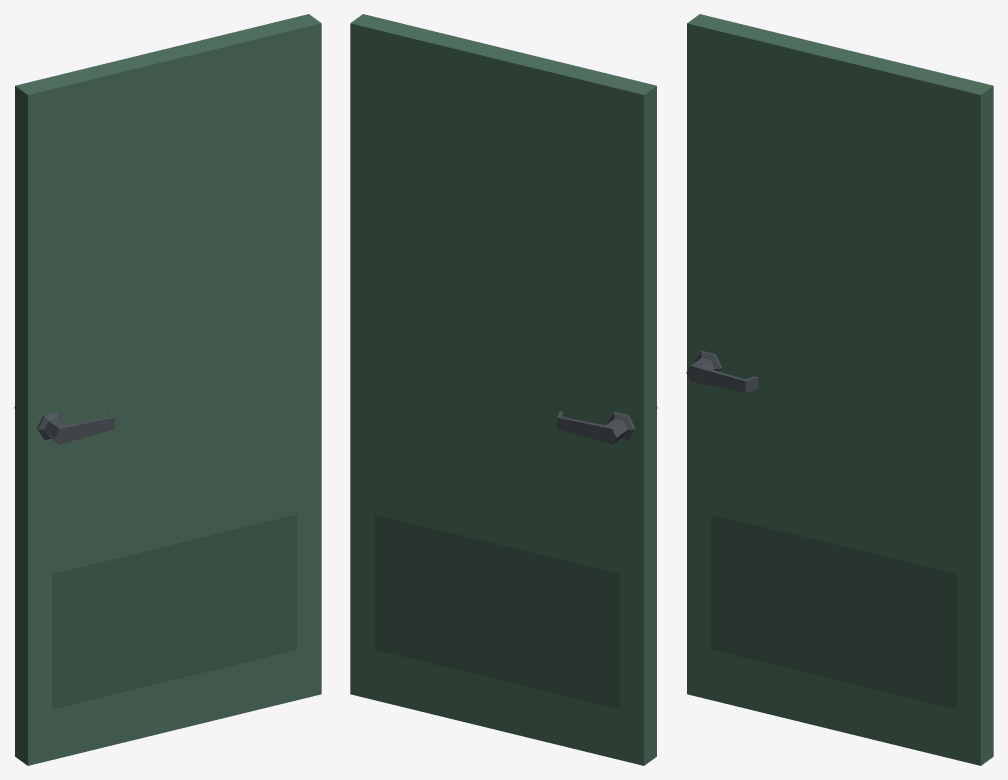
Rendered from SM_Bld_RepairShop_Large_01_Door_03.fbx.
The picture shows the model from 3 angles, left to right: view 1: azimuth 30°, elevation 25°; view 2: azimuth 150°, elevation 25°; view 3: azimuth 330°, elevation 25°; orthographic projection.
Visible parts, largest first — view 1: SM_Bld_RepairShop_Large_01_Door_03; view 2: SM_Bld_RepairShop_Large_01_Door_03; view 3: SM_Bld_RepairShop_Large_01_Door_03.
Part boxes in pixels (left/top/right/bottom): SM_Bld_RepairShop_Large_01_Door_03: left=14, top=14, right=321, bottom=765; SM_Bld_RepairShop_Large_01_Door_03: left=350, top=14, right=657, bottom=765; SM_Bld_RepairShop_Large_01_Door_03: left=686, top=14, right=993, bottom=765.
Size of the model in its own units: 101 by 221 by 24.59.
